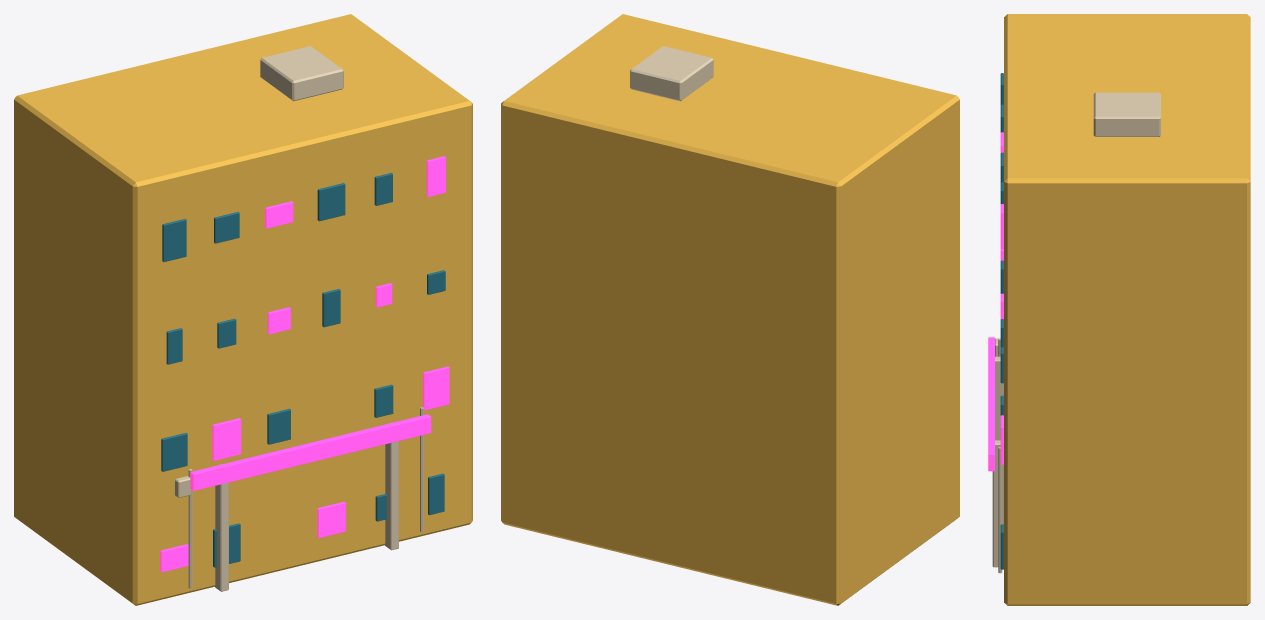
Rendered from building_025_seed11.glb.
3 views of the same model, side by side, from view 1: azimuth 30°, elevation 25°; view 2: azimuth 150°, elevation 25°; view 3: azimuth 270°, elevation 25° (orthographic).
Parts seen in each view (by area): view 1: building_025_seed11; view 2: building_025_seed11; view 3: building_025_seed11.
Part boxes in pixels (x1=…): building_025_seed11: x1=14, y1=14, x2=472, y2=605; building_025_seed11: x1=501, y1=14, x2=959, y2=605; building_025_seed11: x1=988, y1=14, x2=1250, y2=605.
Size of the model in its own units: 8.72 by 10.88 by 5.77.
